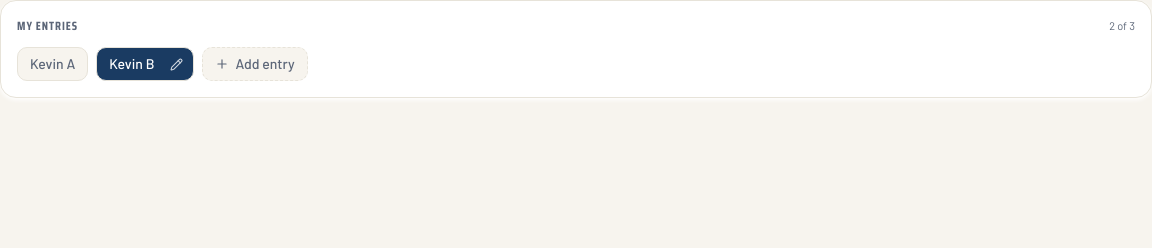
EntrySwitcher — renaming an entry that exists › warns about a name ANOTHER of the member's entries already holds
The width and height of the screenshot is (1152, 248).
Click the button with test id "rename-entry-2" at (180, 64), box [166,52,193,76]
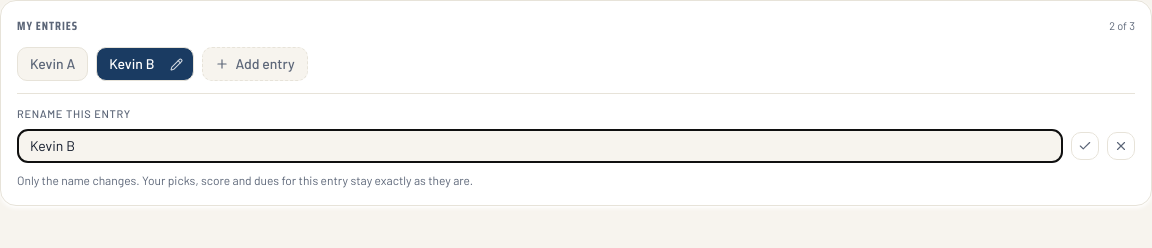
Replace the text in the field named "Rename this entry" with "kevin a" at (540, 146), box [17,128,1063,162]
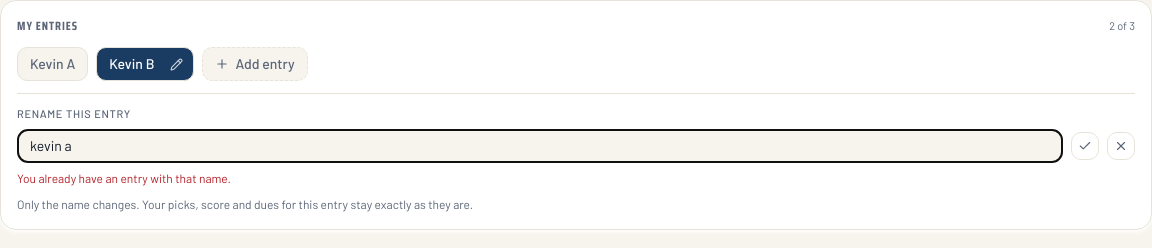
Expected: the text "You already have an entry with that name." is shown, [17,170,231,184]
